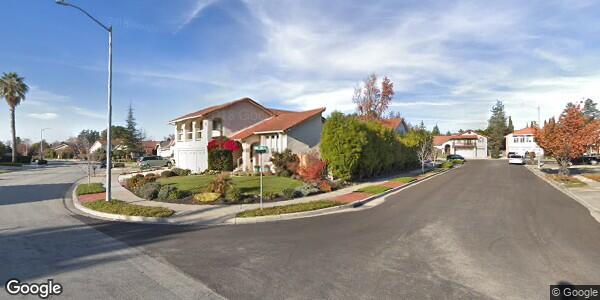Steel_Pole: (51, 1, 115, 203)
